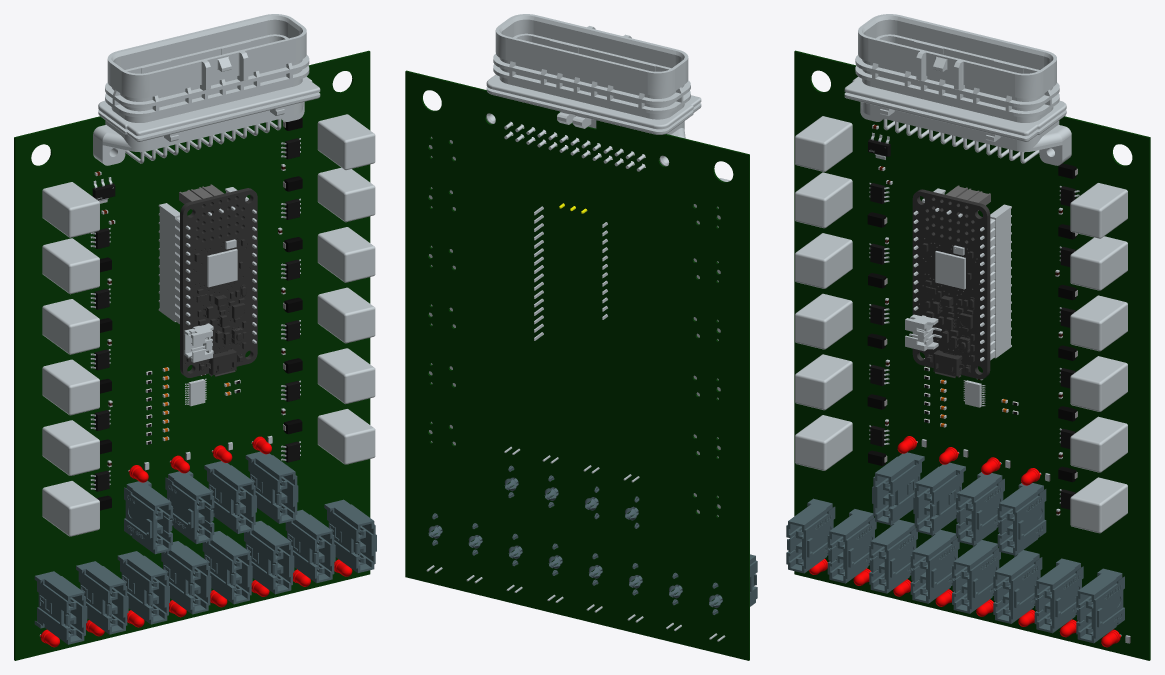
The model's file is pdm1-model.glb.
3 renders of one model, left to right at view 1: azimuth 30°, elevation 25°; view 2: azimuth 150°, elevation 25°; view 3: azimuth 330°, elevation 25°, orthographic. The views are drawn at different scales.
Visible parts, largest first — view 1: Open CASCADE STEP translator 7.5 1.1.1, 10000043872amo000_a (×12), G8K-17R (×12), c-6473711-1-o3-3d, Board, SSW-112-01-X-S.step, object 909, object 860, 4UCONN_20329_V2; view 2: Open CASCADE STEP translator 7.5 1.1.1, c-6473711-1-o3-3d, SSW-116-02-X-S.step, 10000043872amo000_a; view 3: Open CASCADE STEP translator 7.5 1.1.1, 10000043872amo000_a (×12), G8K-17R (×12), c-6473711-1-o3-3d, Board, SSW-116-02-X-S.step, object 909, object 860, 4UCONN_20329_V2.
Part boxes in pixels (<box>): Open CASCADE STEP translator 7.5 1.1.1: <box>14,50,370,660</box>; 10000043872amo000_a (×12): <box>34,451,376,644</box>; G8K-17R (×12): <box>42,114,375,536</box>; c-6473711-1-o3-3d: <box>93,14,320,165</box>; Board: <box>180,188,257,377</box>; SSW-112-01-X-S.step: <box>158,203,179,321</box>; object 909: <box>207,249,237,287</box>; object 860: <box>184,323,213,362</box>; 4UCONN_20329_V2: <box>206,349,236,376</box>; Open CASCADE STEP translator 7.5 1.1.1: <box>405,70,749,660</box>; c-6473711-1-o3-3d: <box>486,14,701,171</box>; SSW-116-02-X-S.step: <box>534,206,543,340</box>; 10000043872amo000_a: <box>709,554,757,607</box>; Open CASCADE STEP translator 7.5 1.1.1: <box>794,50,1150,660</box>; 10000043872amo000_a (×12): <box>786,452,1124,643</box>; G8K-17R (×12): <box>795,116,1127,533</box>; c-6473711-1-o3-3d: <box>844,14,1071,165</box>; Board: <box>912,189,990,379</box>; SSW-116-02-X-S.step: <box>990,204,1011,358</box>; object 909: <box>935,251,965,289</box>; object 860: <box>905,315,938,351</box>; 4UCONN_20329_V2: <box>933,350,964,377</box>.
Bounding box in the file's own units: 109 × 171 × 24.45.
